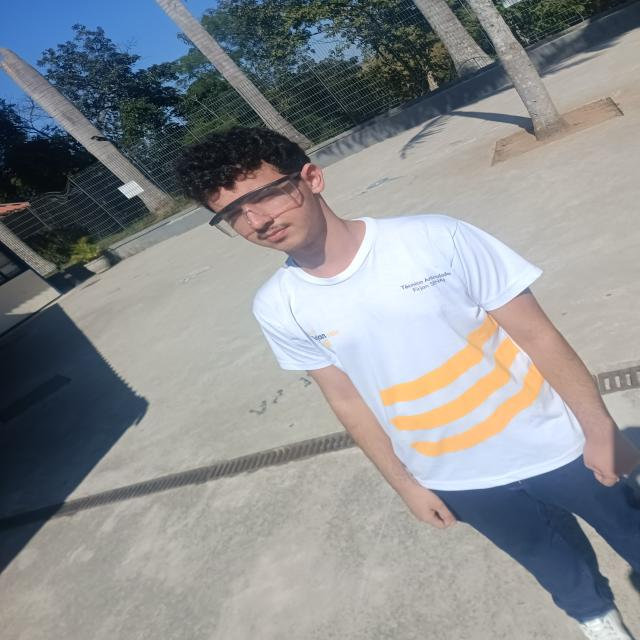oculos-epi: (210, 174, 299, 238)
